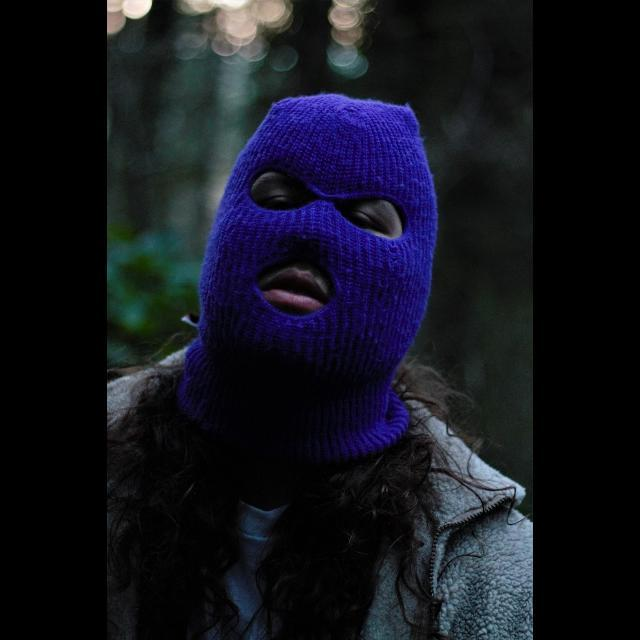criminal: (108, 92, 535, 640)
